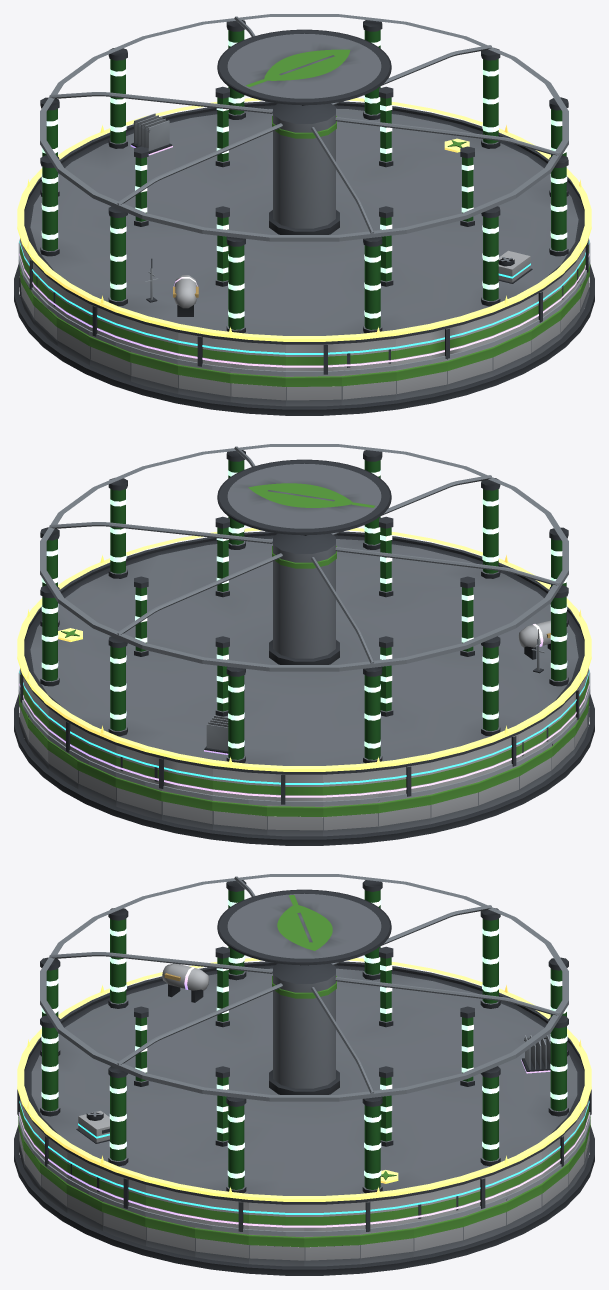
File: algae_bioreactor_xl_far.glb
3 renders of one model, top to bottom at view 1: azimuth 30°, elevation 25°; view 2: azimuth 150°, elevation 25°; view 3: azimuth 270°, elevation 25°, orthographic.
Parts seen in each view (by area): view 1: Roof, Base, L5, L4, L2, L3; view 2: Roof, Base, L5, L2, L4, L3; view 3: Roof, Base, L5, L4, L2, L3.
Boxes of the visible parts, <box> form: Roof: <box>20,14,588,374</box>; Base: <box>14,264,594,415</box>; L5: <box>17,98,591,341</box>; L4: <box>19,113,589,367</box>; L2: <box>18,239,590,375</box>; L3: <box>19,241,589,354</box>; Roof: <box>20,444,588,804</box>; Base: <box>14,694,594,845</box>; L5: <box>17,528,591,771</box>; L2: <box>18,629,590,805</box>; L4: <box>19,620,589,797</box>; L3: <box>19,671,589,784</box>; Roof: <box>17,874,591,1231</box>; Base: <box>14,1114,594,1275</box>; L5: <box>17,958,591,1201</box>; L4: <box>19,963,589,1227</box>; L2: <box>18,1112,590,1235</box>; L3: <box>19,1101,589,1214</box>.
Size of the model in its own units: 21.35 by 9.2 by 21.35.
